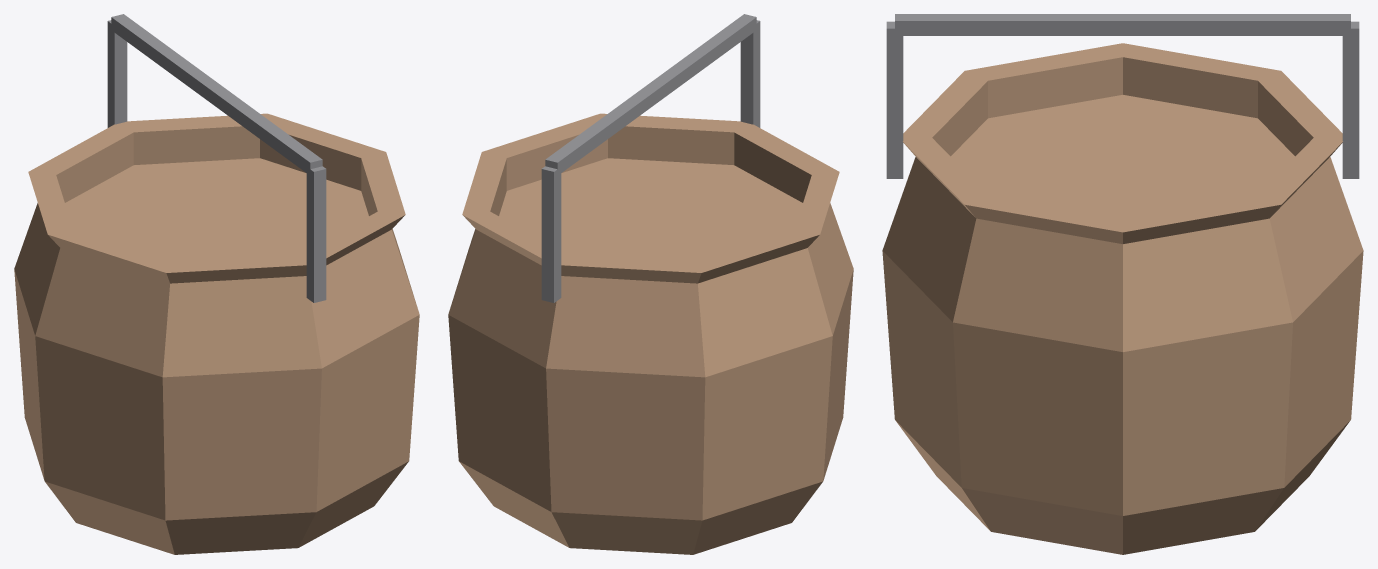
The model's file is prop-paint-kettle-blank.fbx.
The picture shows the model from 3 angles, left to right: view 1: azimuth 30°, elevation 25°; view 2: azimuth 150°, elevation 25°; view 3: azimuth 270°, elevation 25°; orthographic projection. The views are drawn at different scales.
Parts seen in each view (by area): view 1: prop-paint-kettle-blank; view 2: prop-paint-kettle-blank; view 3: prop-paint-kettle-blank.
Boxes of the visible parts, x1=… form: prop-paint-kettle-blank: x1=14, y1=14, x2=419, y2=554; prop-paint-kettle-blank: x1=448, y1=14, x2=853, y2=554; prop-paint-kettle-blank: x1=882, y1=14, x2=1363, y2=554.
Bounding box in the file's own units: 11.6 × 12.2 × 11.6.
